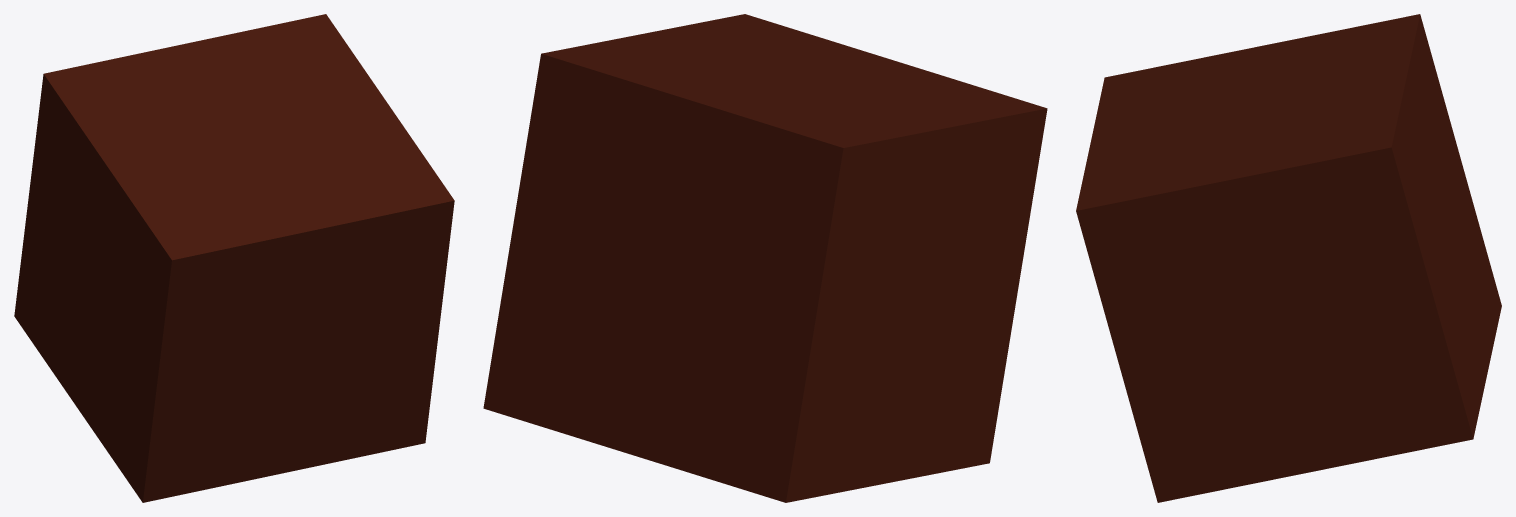
Rendered from dot.fbx.
3 renders of one model, left to right at view 1: azimuth 30°, elevation 25°; view 2: azimuth 150°, elevation 25°; view 3: azimuth 270°, elevation 25°, orthographic. The views are drawn at different scales.
Parts seen in each view (by area): view 1: mesh_.; view 2: mesh_.; view 3: mesh_..
Part boxes in pixels (x1,y1,x2,y2): mesh_.: [14, 14, 454, 502]; mesh_.: [483, 14, 1047, 502]; mesh_.: [1076, 14, 1501, 502].
Size of the model in its own units: 12.46 by 13.81 by 14.57.
